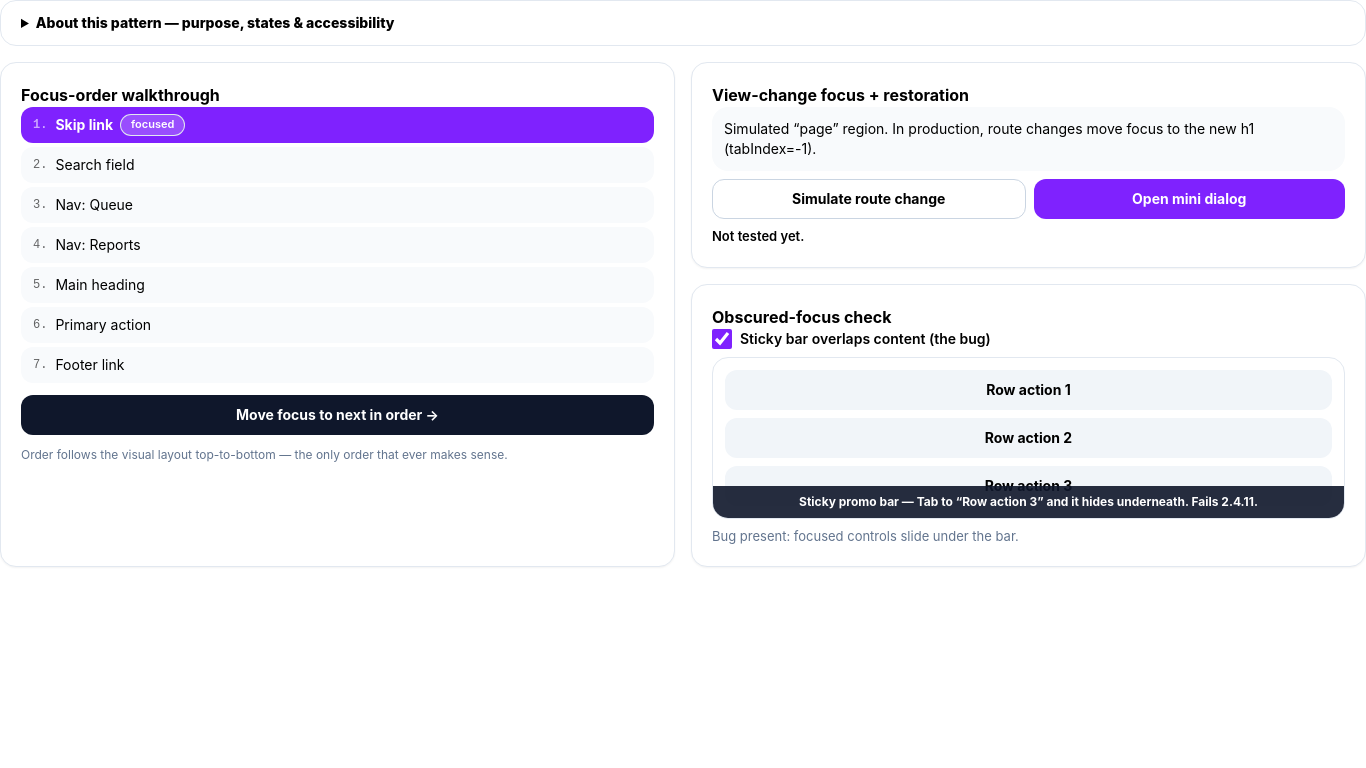
keyboard and focus › dialog open/close restores focus with a log
Click the button "Open mini dialog" at point(1189, 199), box 1034,179 -> 1345,219
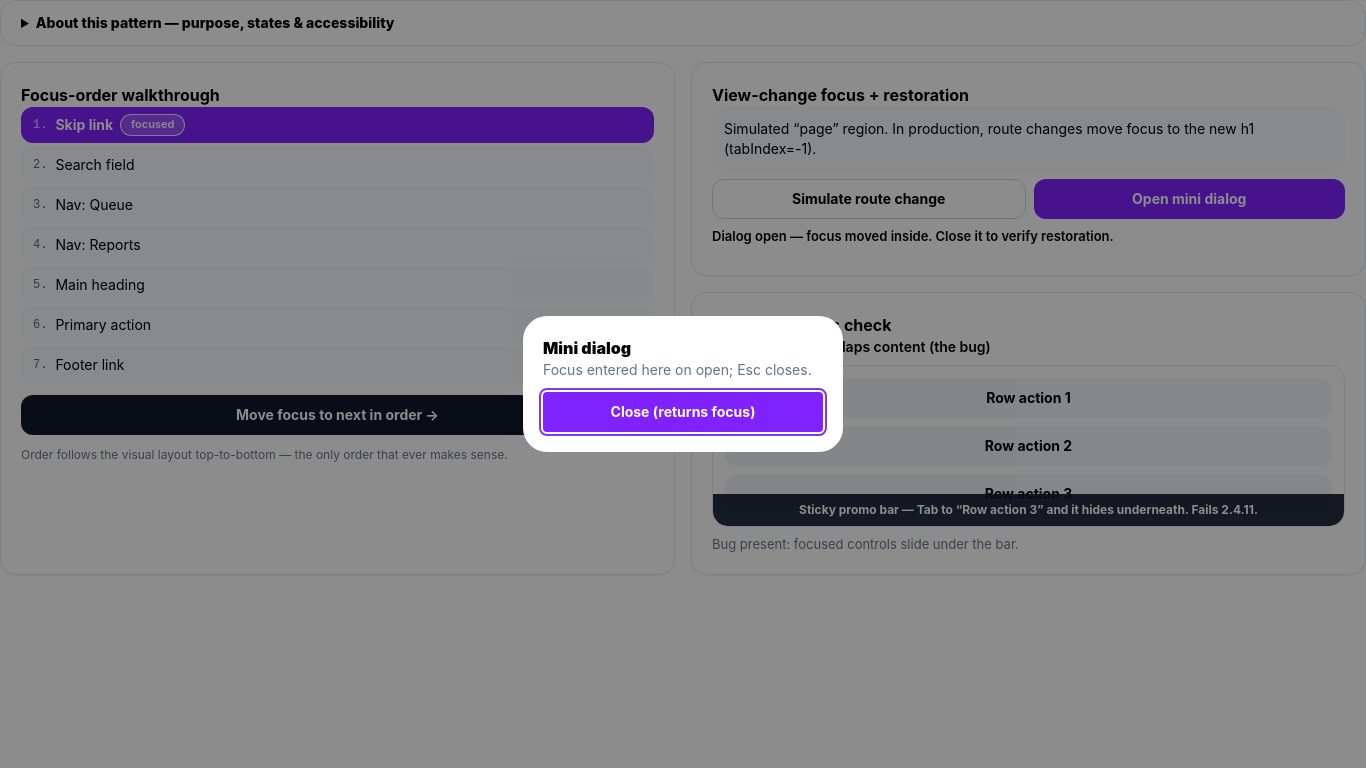
Now the dialog "Mini dialog" is shown
Press Escape
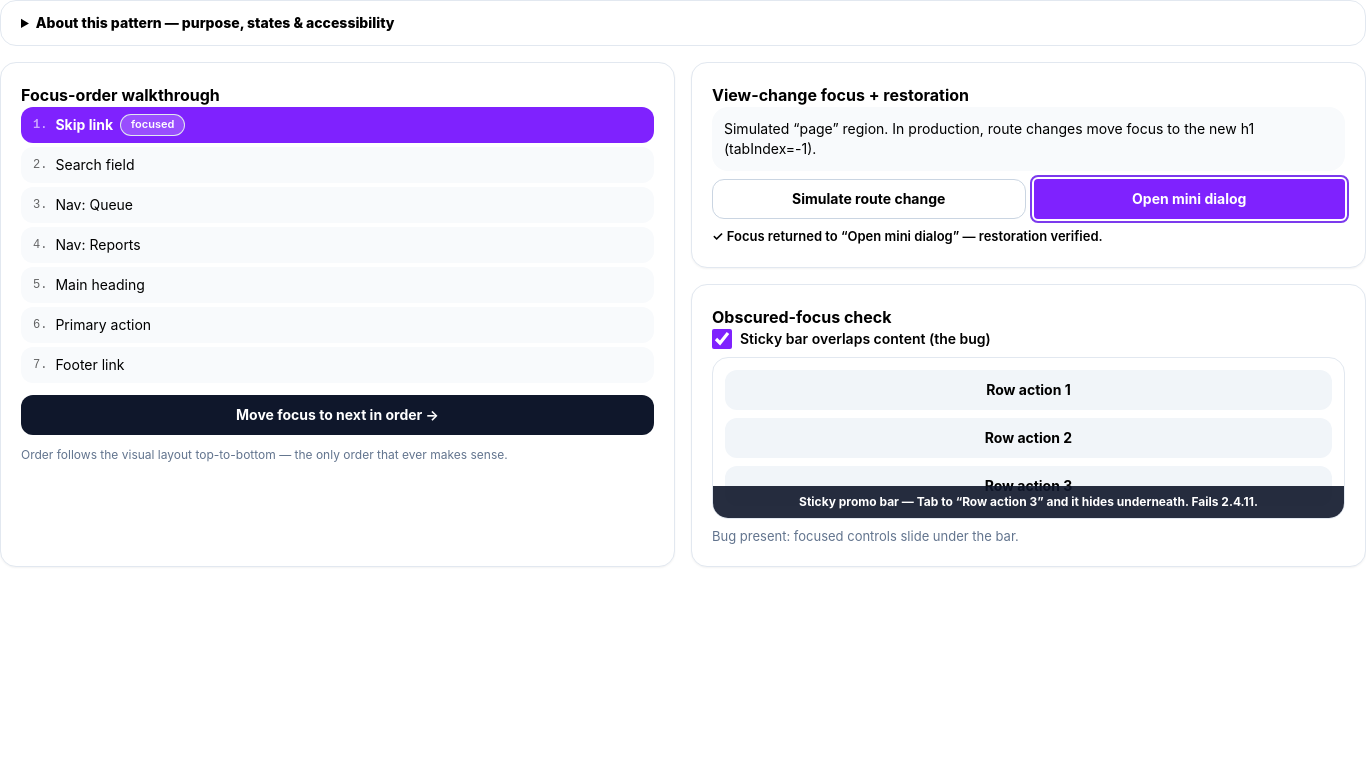
Now the dialog is gone
Now the text "✓ Focus returned to “Open mini dialog” — restoration verified." is shown, box 712,228 -> 1103,244
